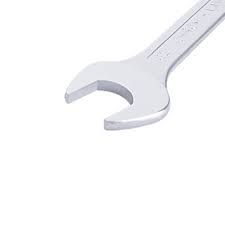wrench: (58, 2, 225, 141)
